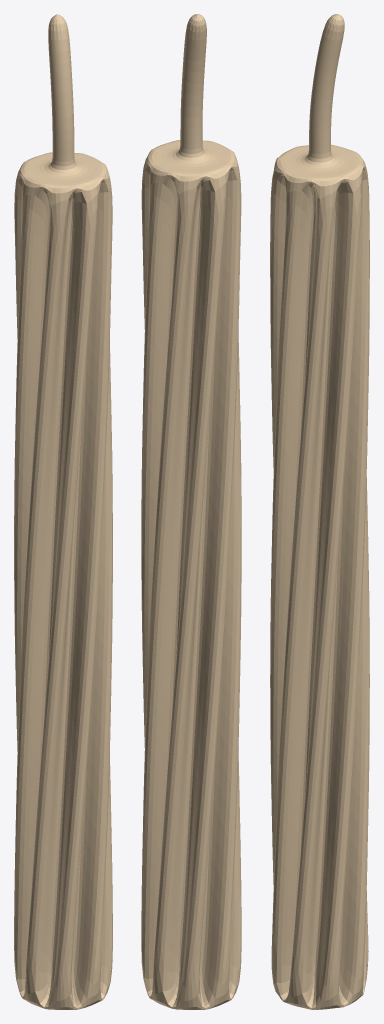
Rendered from cakeDecorBlueberryONE.glb.
3 views of the same model, side by side, from view 1: azimuth 30°, elevation 25°; view 2: azimuth 210°, elevation 25°; view 3: azimuth 270°, elevation 25° (orthographic).
Parts seen in each view (by area): view 1: Cylinder.017; view 2: Cylinder.017; view 3: Cylinder.017.
Part boxes in pixels (bbox=[...]): Cylinder.017: bbox=[14, 14, 112, 1009]; Cylinder.017: bbox=[141, 14, 241, 1009]; Cylinder.017: bbox=[270, 14, 369, 1009].
Bounding box in the file's own units: 0.0318 × 0.345 × 0.0318.
